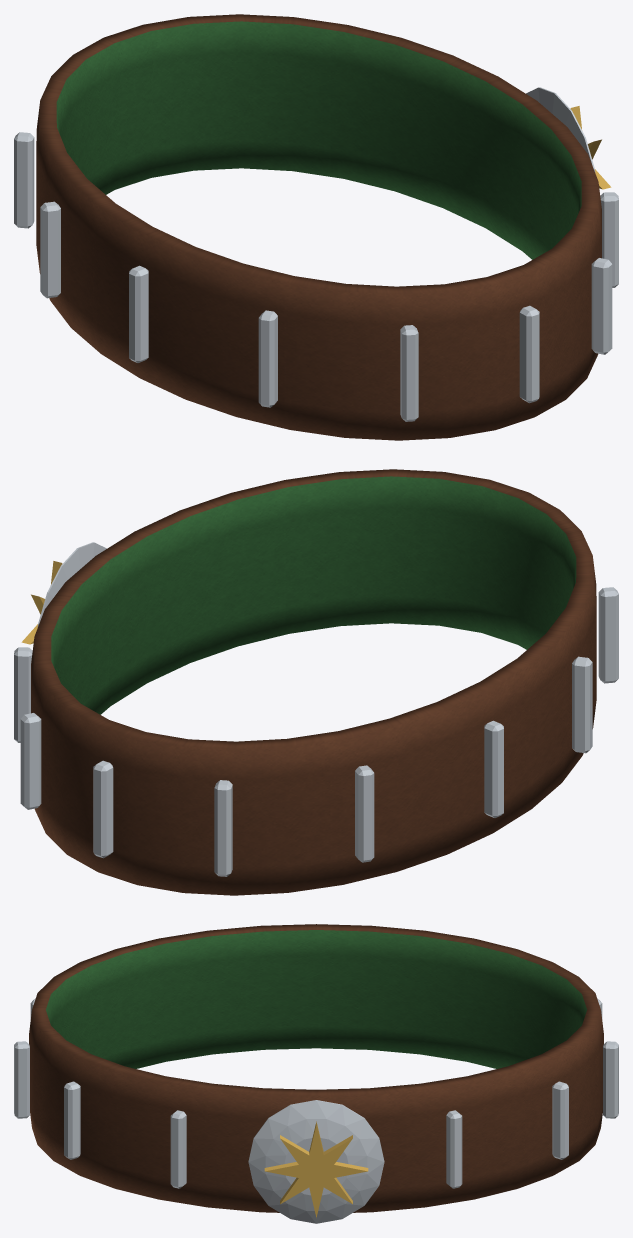
Rendered from item_belt2a.glb.
The picture shows the model from 3 angles, top to bottom: view 1: azimuth 30°, elevation 25°; view 2: azimuth 150°, elevation 25°; view 3: azimuth 270°, elevation 25°; orthographic projection. The views are drawn at different scales.
Visible parts, largest first — view 1: jewellery_belt2a; view 2: jewellery_belt2a; view 3: jewellery_belt2a.
Boxes of the visible parts, bbox=[...] form: jewellery_belt2a: bbox=[14, 14, 618, 440]; jewellery_belt2a: bbox=[14, 469, 618, 895]; jewellery_belt2a: bbox=[14, 924, 618, 1223].
Size of the model in its own units: 0.8437 by 0.25 by 1.11.
Materials: 4 (2 with a texture image).
